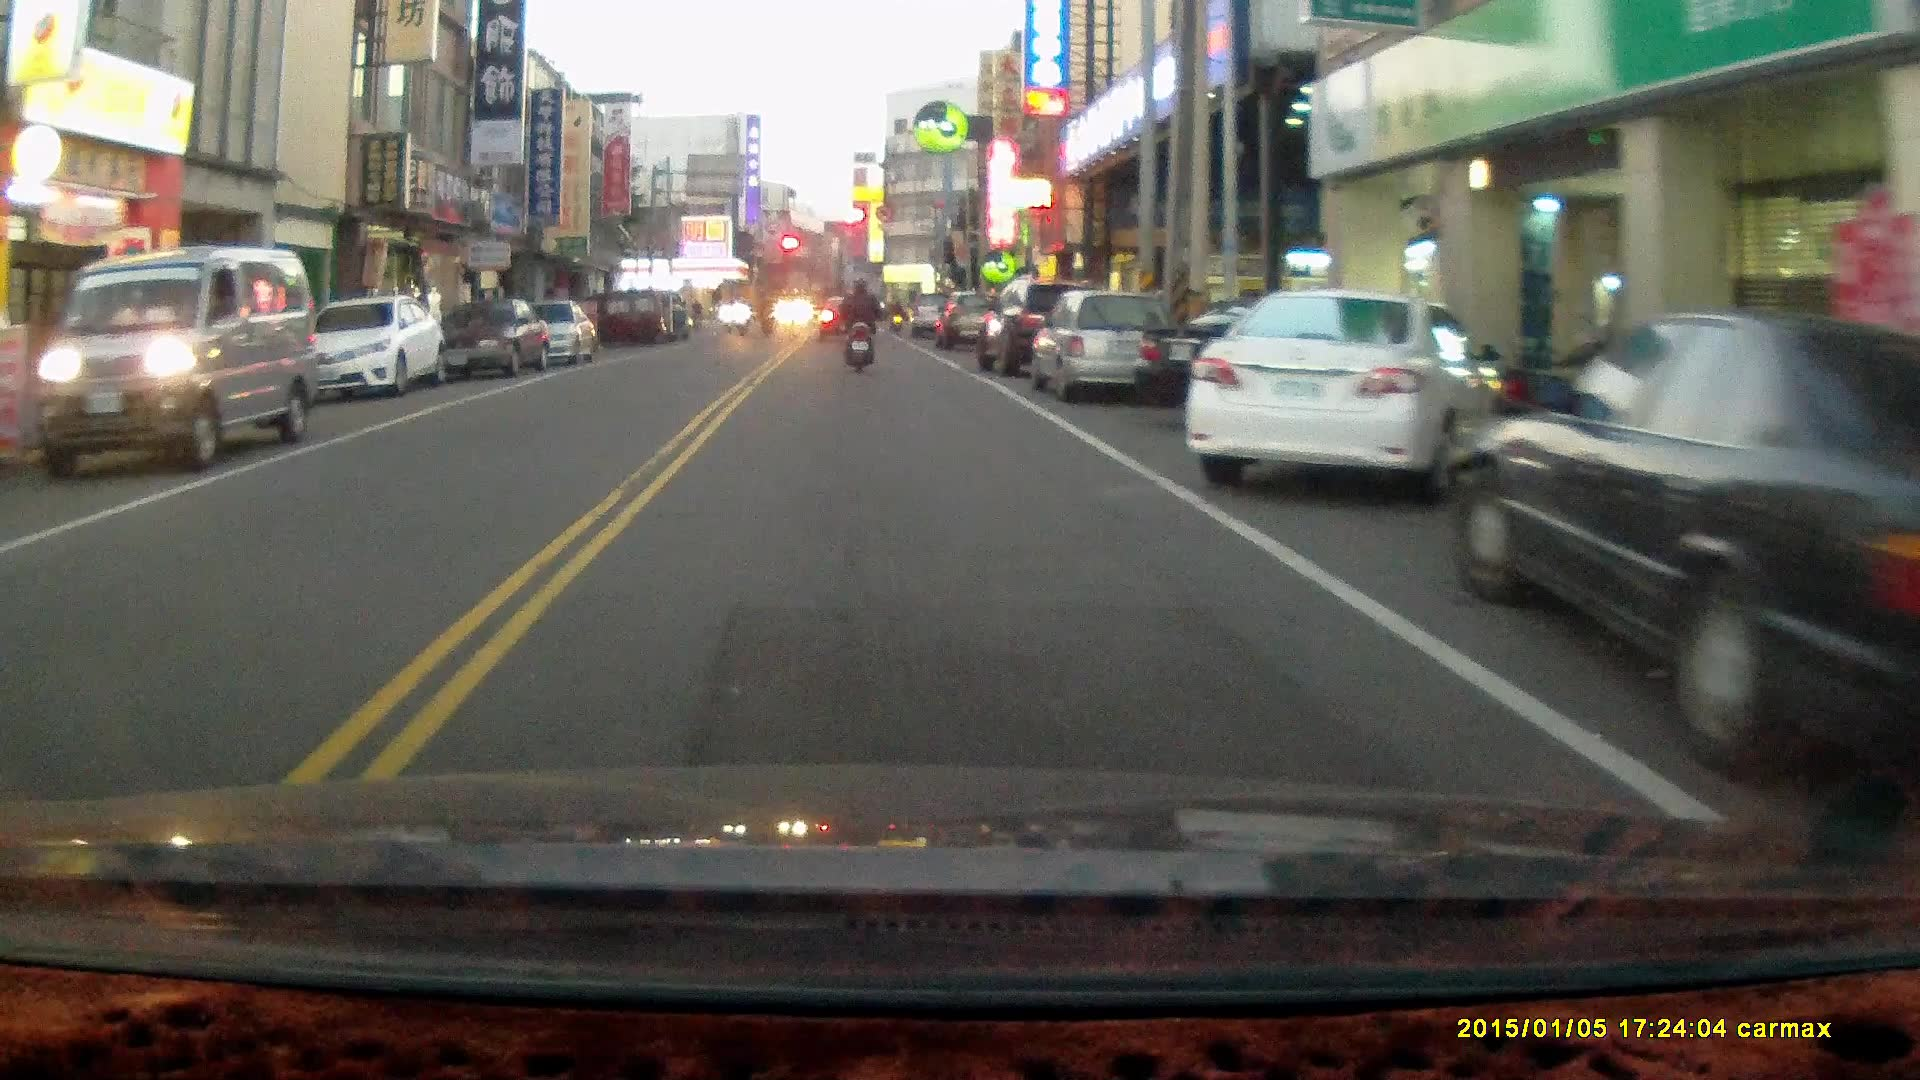rider: (838, 276, 882, 377), (729, 296, 752, 335)
vehicle: (1444, 311, 1920, 774), (1185, 290, 1496, 504), (24, 246, 316, 472), (1130, 300, 1447, 432), (1030, 292, 1181, 397), (298, 294, 446, 402), (971, 286, 1114, 378), (433, 297, 554, 384), (501, 301, 596, 374)
